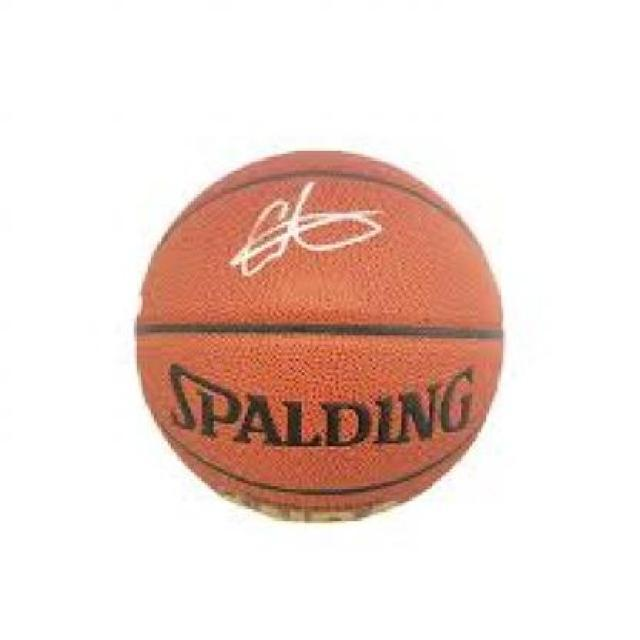basketball: (136, 153, 500, 524)
